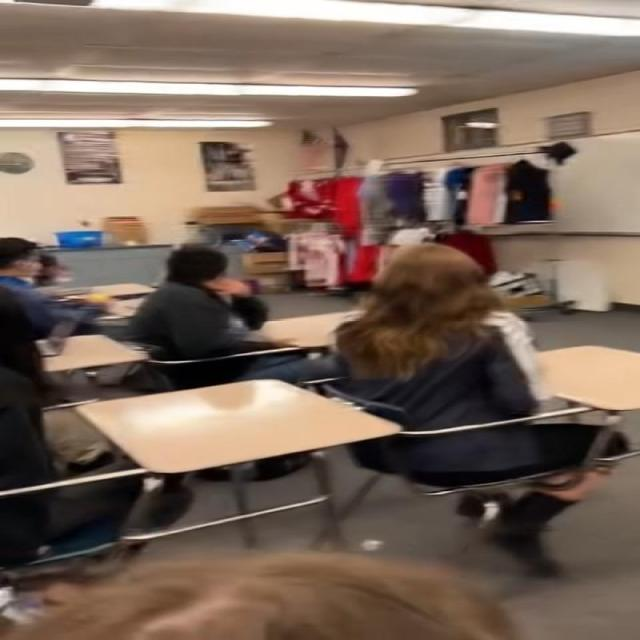Mask: (19, 246, 45, 279)
